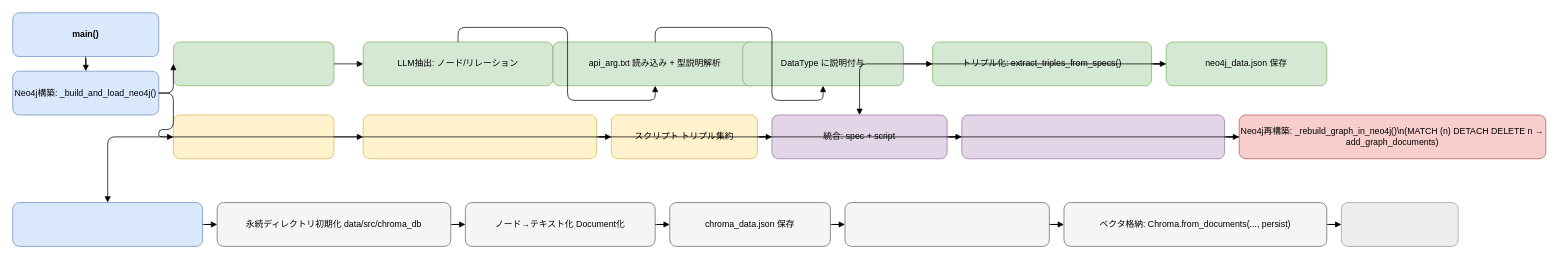
Some shapes in this 1559 by 259 pixel diagram are drawn without their labels. Each missing label, with the box of its shape:
api.txt 読み込み: (173, 41, 334, 86)
Chroma構築: _build_and_load_chroma(gdocs): (12, 202, 203, 246)
data/src/*.py 走査: (173, 114, 334, 159)
GraphDocument 生成: _triples_to_graph_documents(): (961, 114, 1225, 159)
スクリプト解析: extract_triples_from_script(): (362, 114, 597, 159)
埋め込み生成: OpenAIEmbeddings: (844, 202, 1049, 246)
終了: (1341, 202, 1458, 246)
